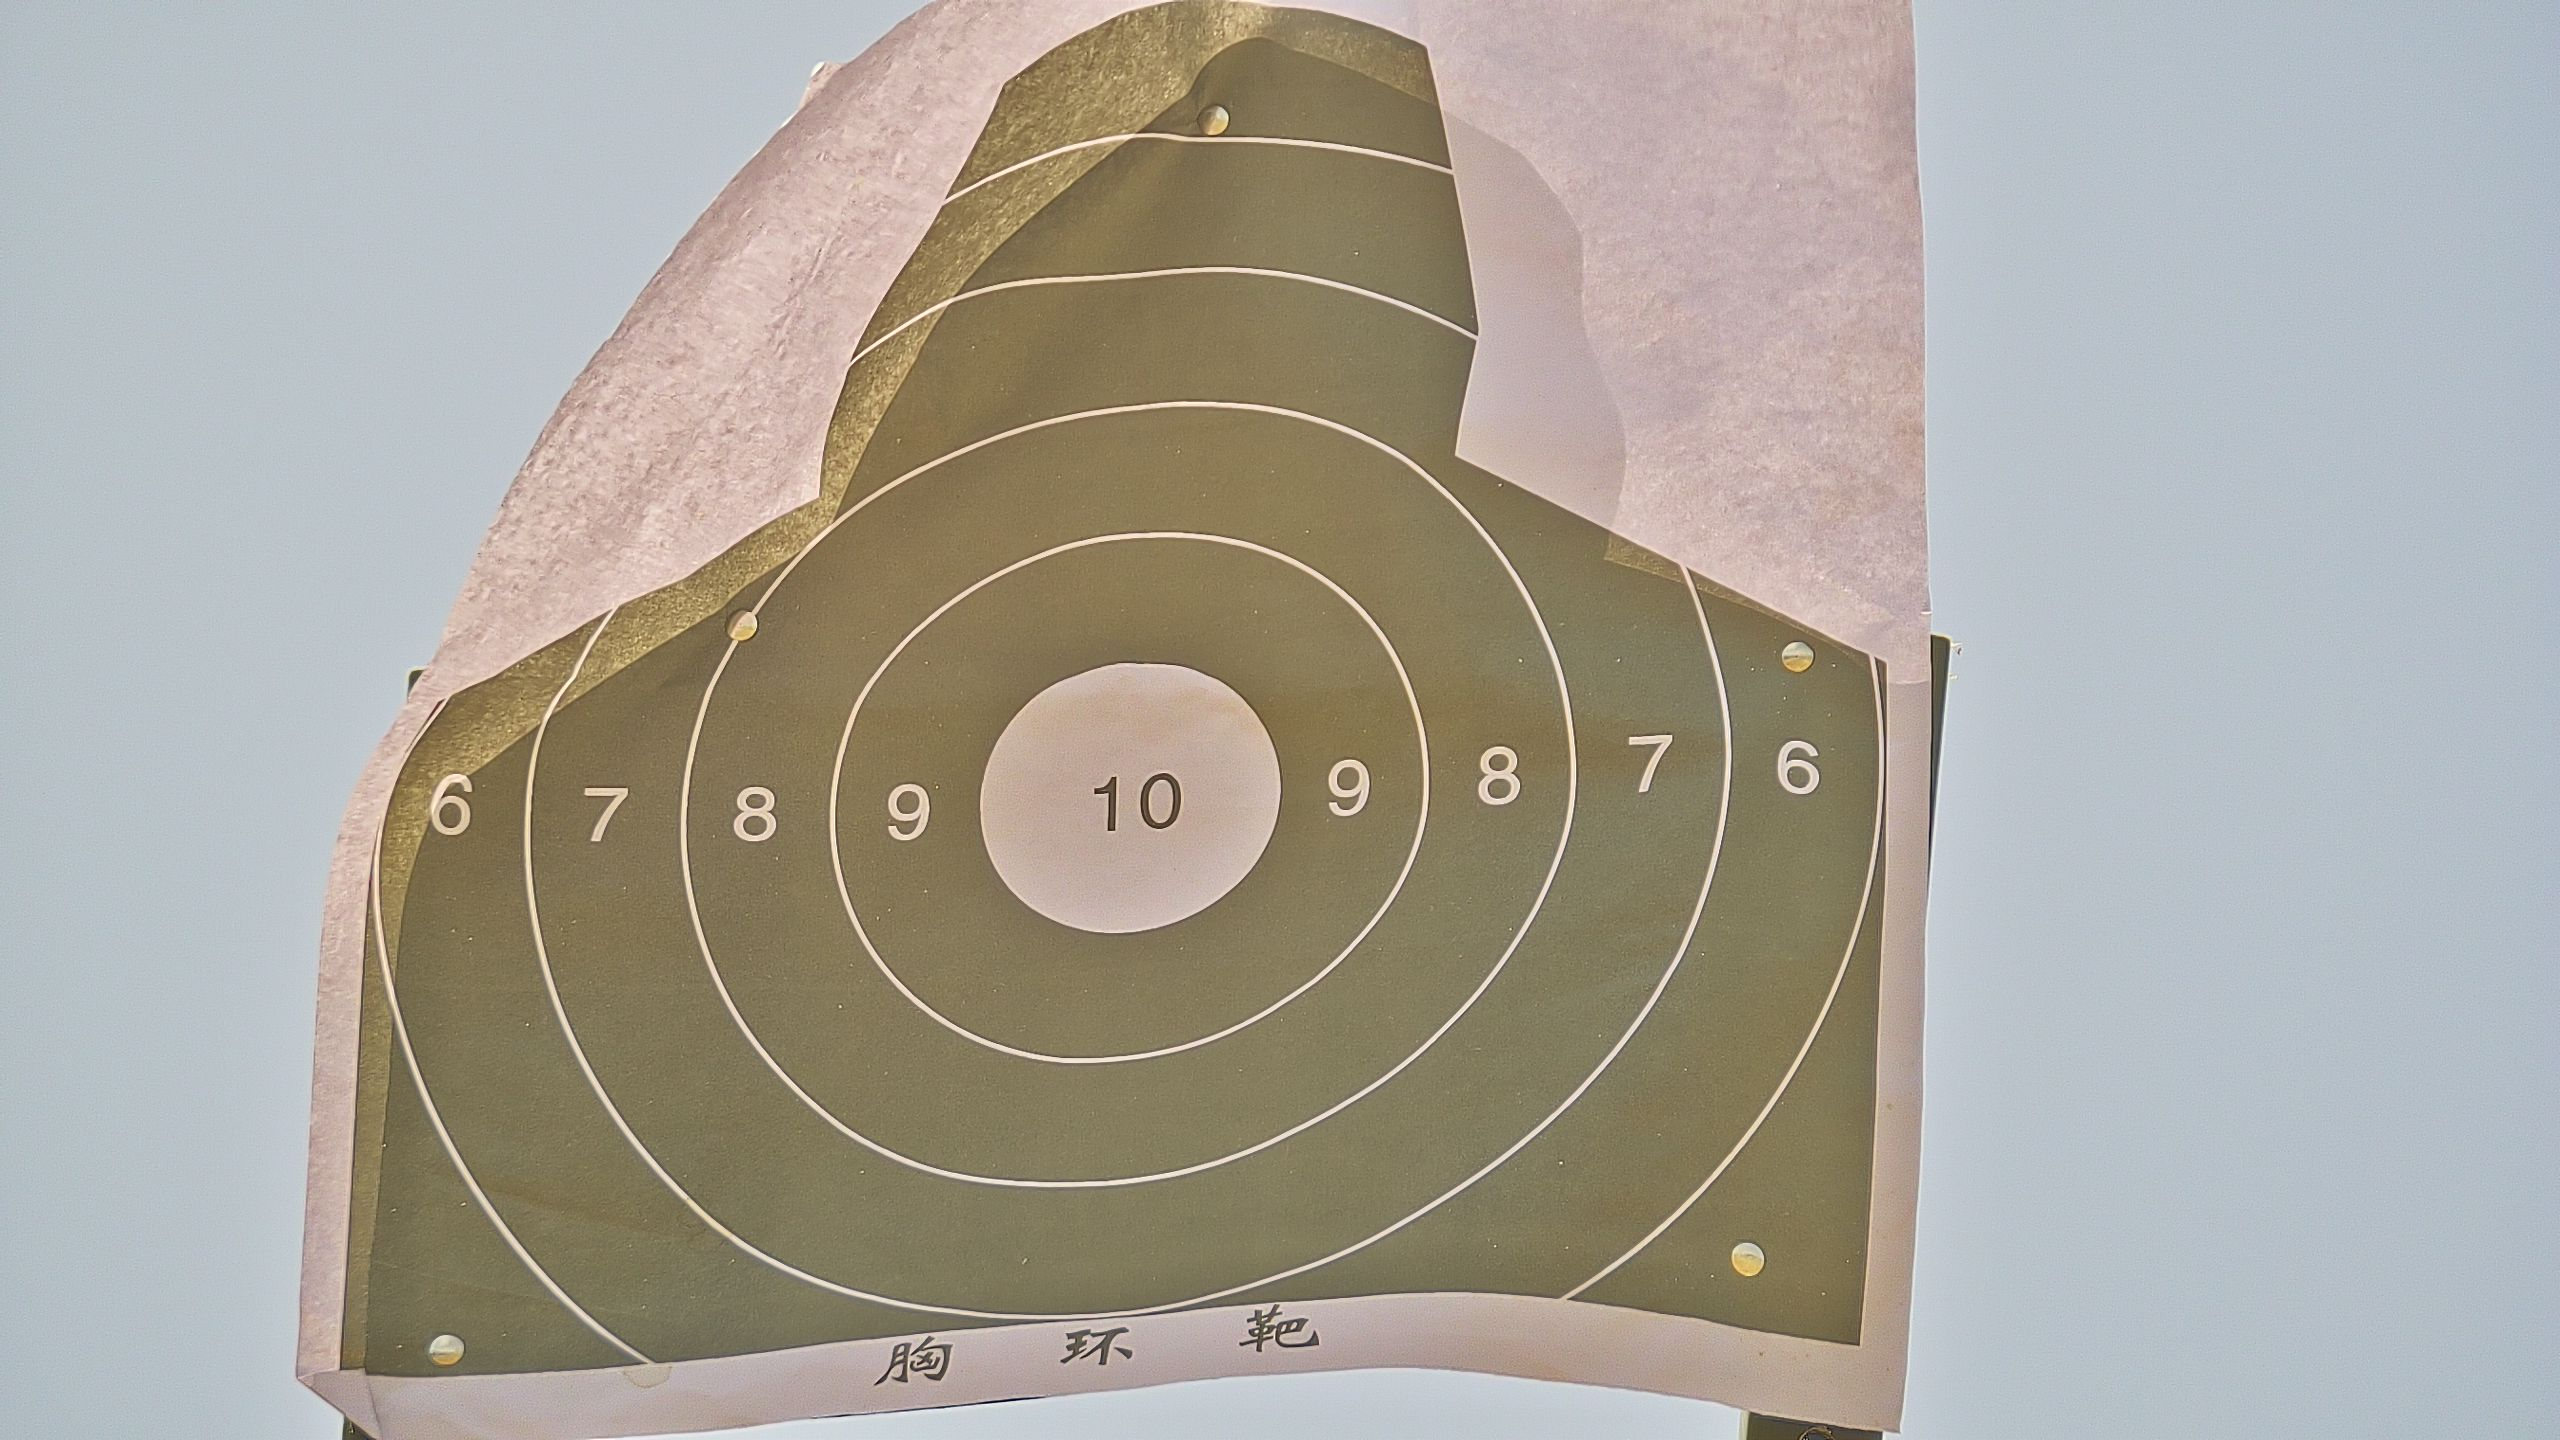kernel: (1129, 805, 1134, 807)
target: (334, 2, 1881, 1371)
ten: (978, 663, 1282, 939)
